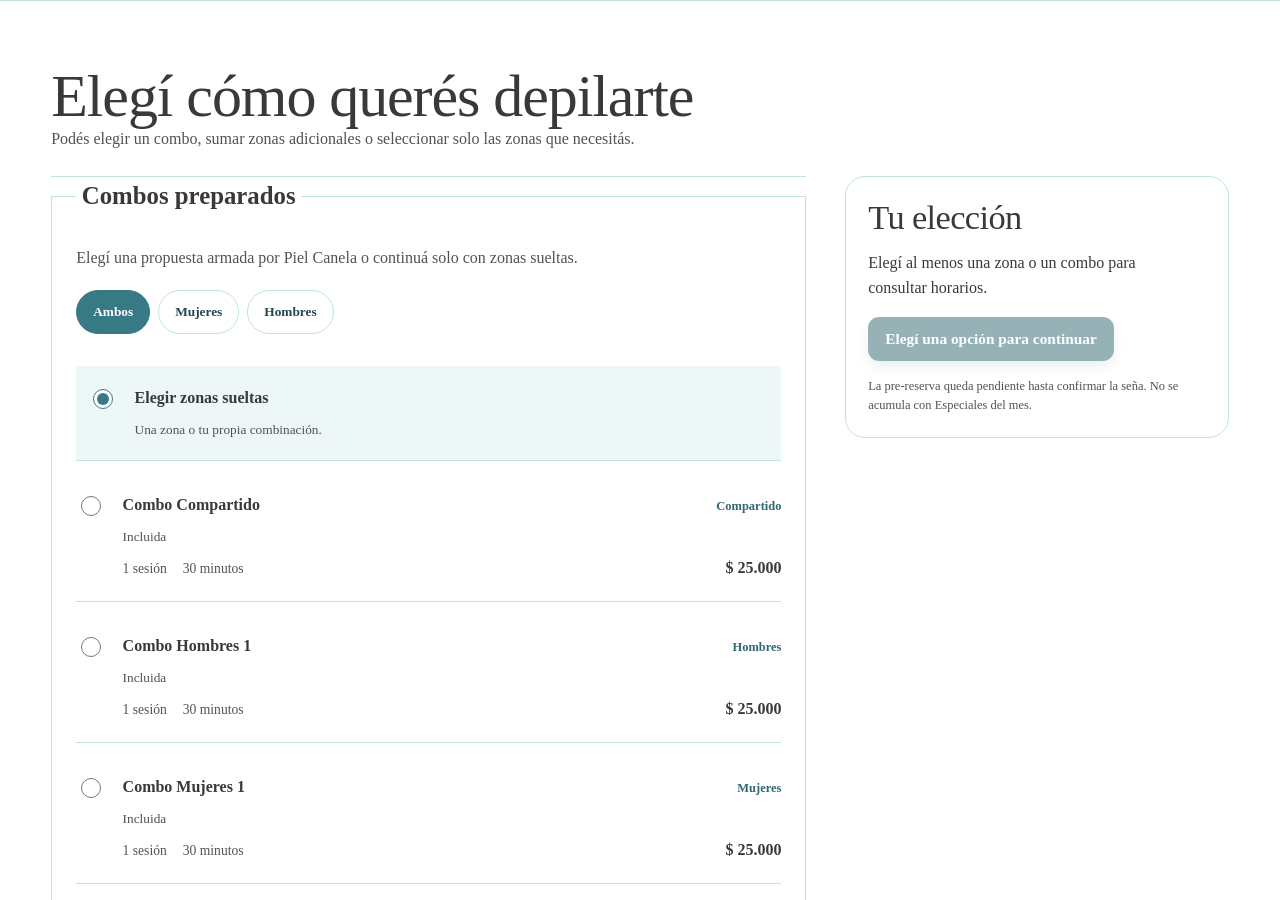
depilation order selector › filters combos by audience while keeping shared options in both groups
The image size is (1280, 900).
Expected: the text "Combo Hombres 1" is shown, [123,634,251,659]
Expected: the text "Combo Mujeres 1" is shown, [123,775,245,800]
Click the button "Mujeres": (199, 312) [158,290,239,334]
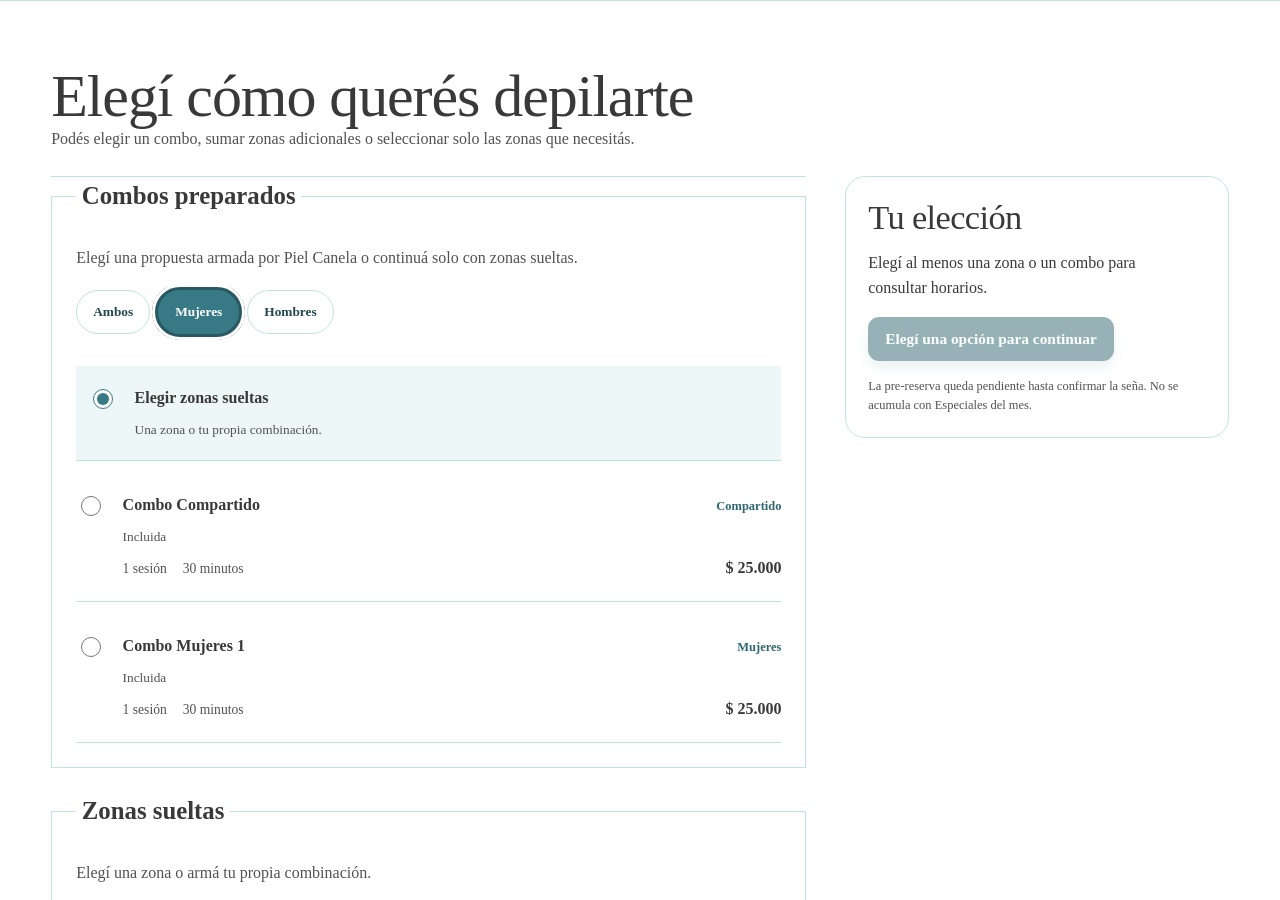
Expected: the text "Combo Mujeres 1" is shown, [123,634,245,659]
Expected: the text "Combo Hombres 1" is gone
Click the button "Hombres": (290, 312) [247,290,334,334]
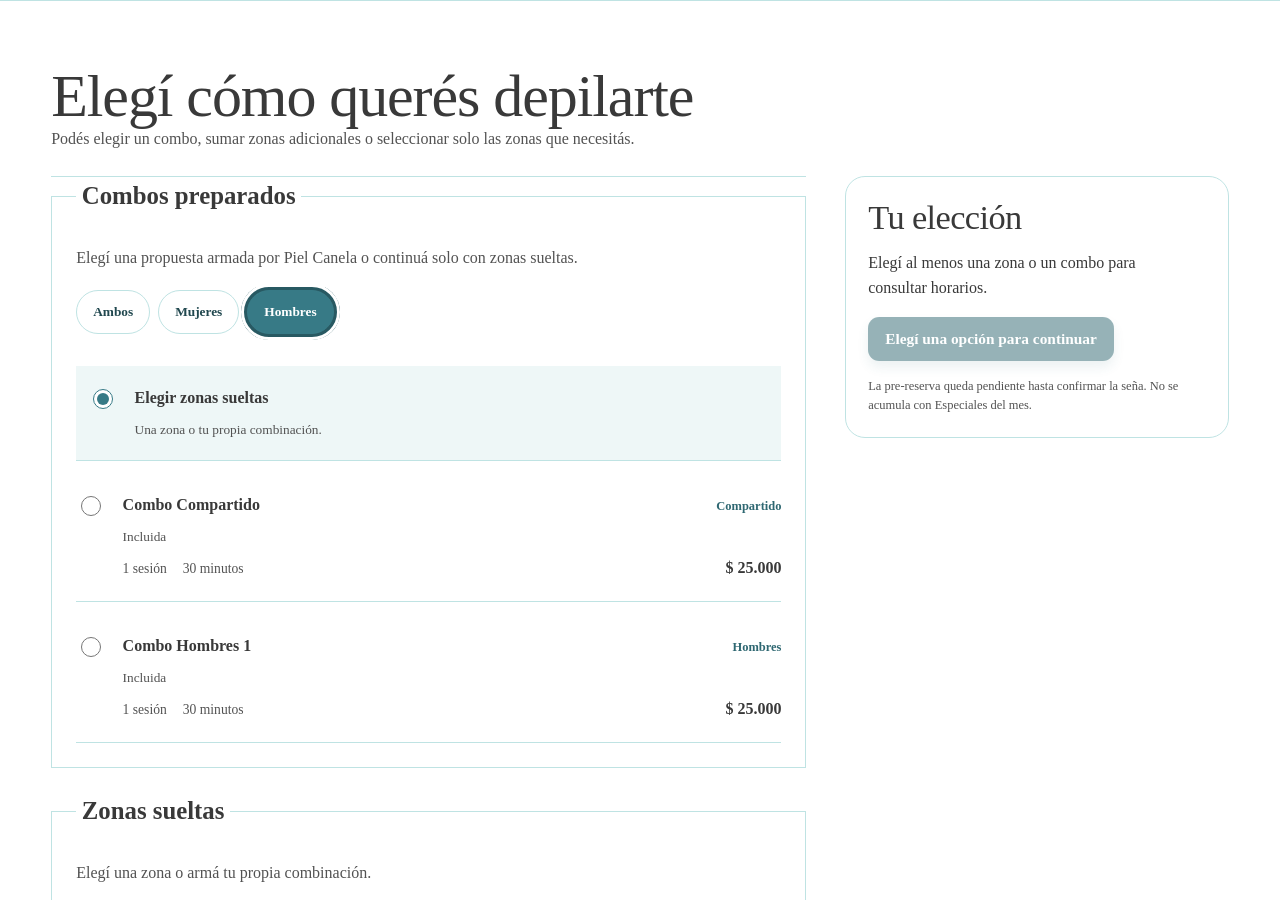
Expected: the text "Combo Compartido" is shown, [123,493,260,518]
Expected: the text "Combo Hombres 1" is shown, [123,634,251,659]
Expected: the text "Combo Mujeres 1" is gone
